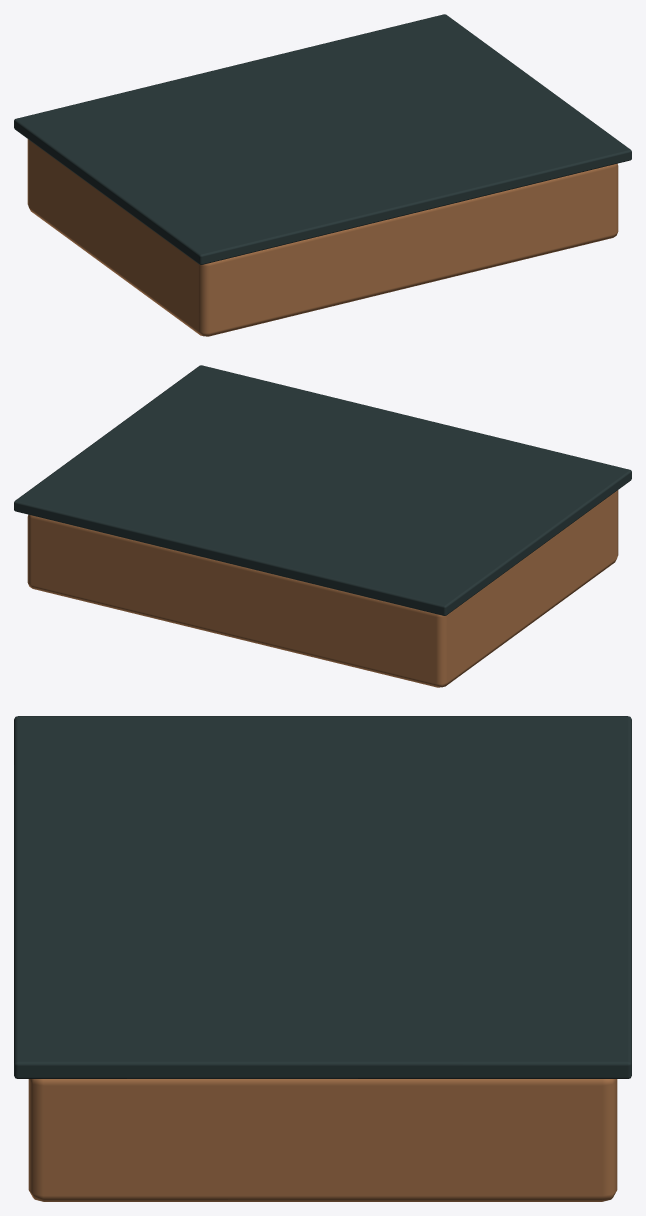
Rendered from wp-estrade.glb.
3 renders of one model, top to bottom at view 1: azimuth 30°, elevation 25°; view 2: azimuth 150°, elevation 25°; view 3: azimuth 270°, elevation 25°, orthographic. The views are drawn at different scales.
Visible parts, largest first — view 1: wp-estrade; view 2: wp-estrade; view 3: wp-estrade.
Boxes of the visible parts, bbox=[...] form: wp-estrade: bbox=[14, 14, 631, 336]; wp-estrade: bbox=[14, 365, 631, 687]; wp-estrade: bbox=[14, 716, 631, 1201].
Bounding box in the file's own units: 2 × 0.4 × 1.5.
